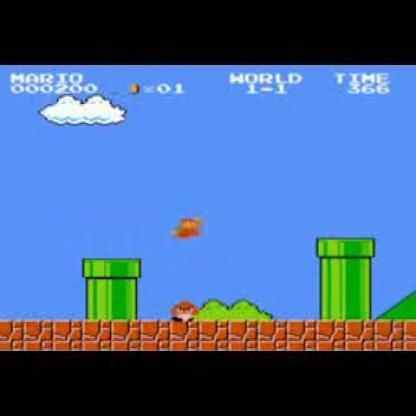Goomba: (171, 298, 199, 324)
